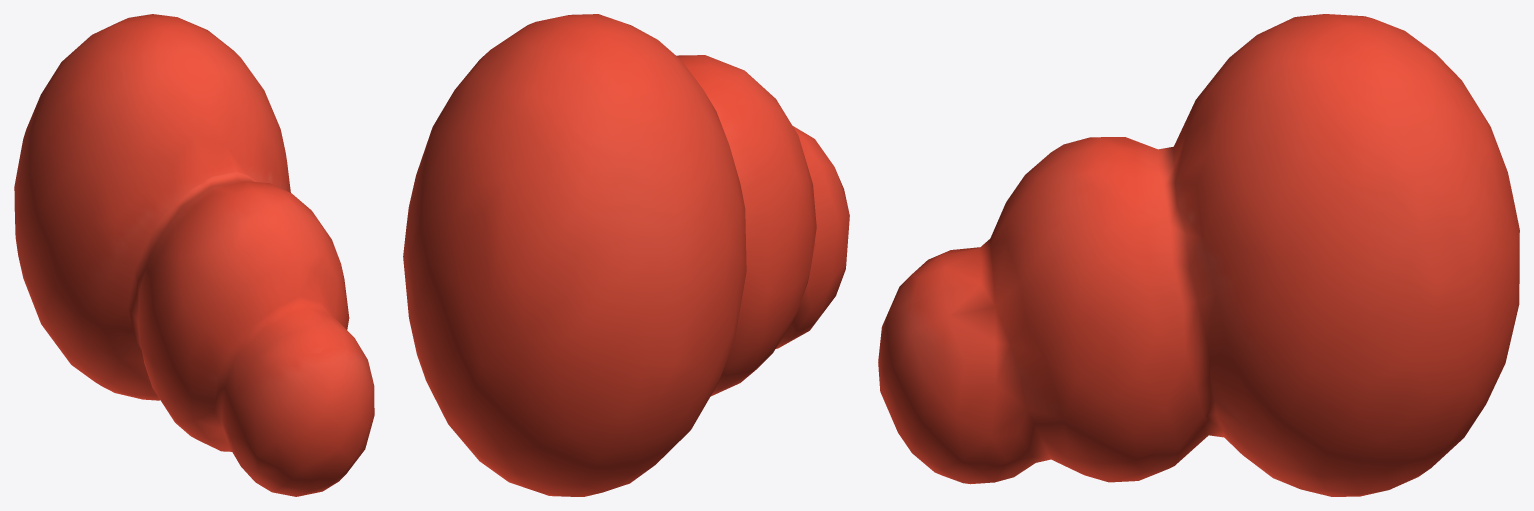
File: studio.glb
The picture shows the model from 3 angles, left to right: view 1: azimuth 30°, elevation 25°; view 2: azimuth 150°, elevation 25°; view 3: azimuth 270°, elevation 25°; orthographic projection. The views are drawn at different scales.
Bounding box in the file's own units: 0.6969 × 1.04 × 1.3.
Materials: 1 (1 with a texture image).
